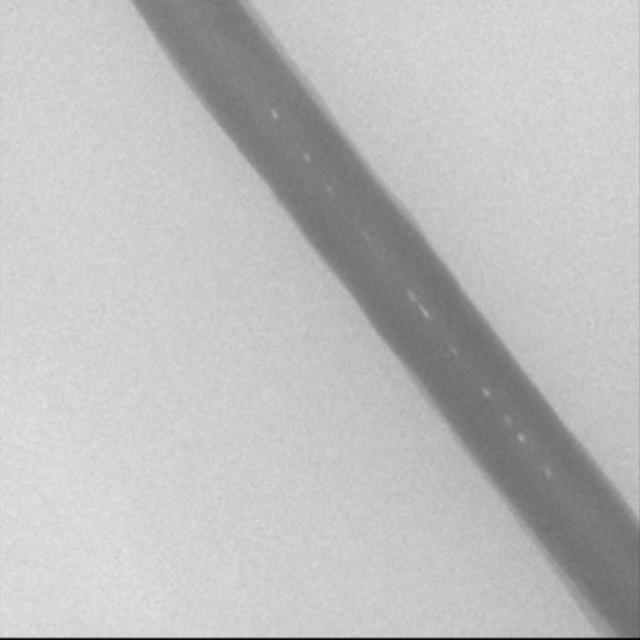air hole: (417, 302, 431, 321), (301, 150, 312, 165), (406, 288, 417, 303), (269, 107, 280, 121), (480, 384, 491, 398), (542, 467, 553, 481), (516, 431, 526, 446)
